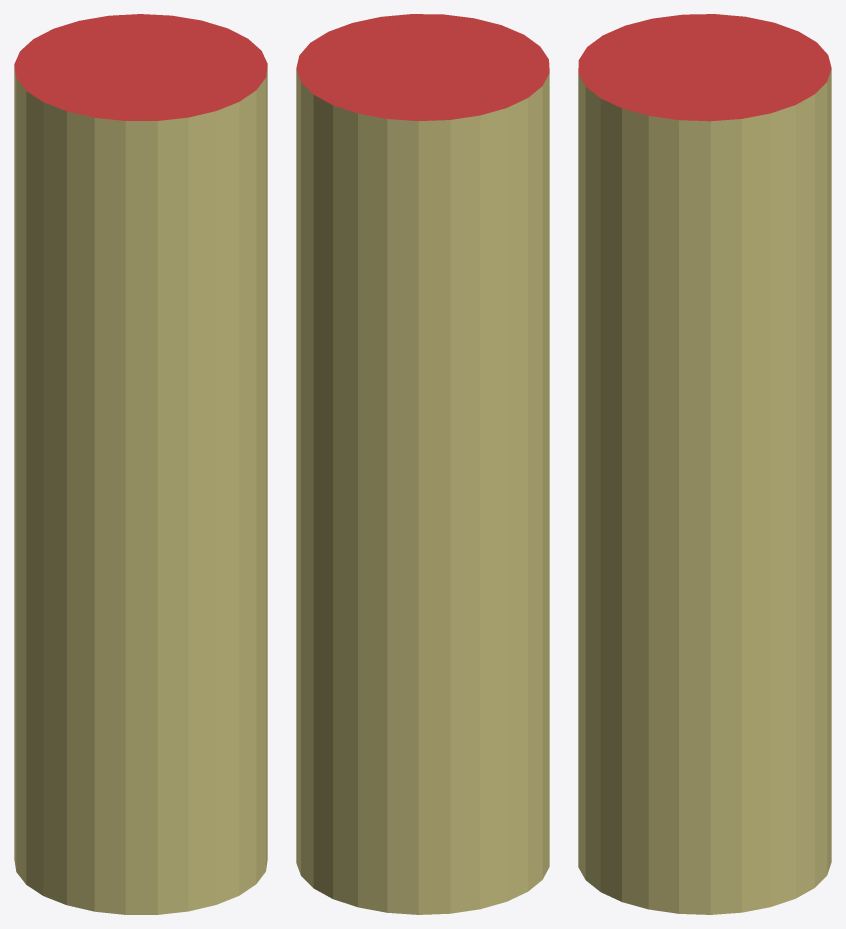
3 renders of one model, left to right at view 1: azimuth 30°, elevation 25°; view 2: azimuth 150°, elevation 25°; view 3: azimuth 270°, elevation 25°, orthographic.
Size of the model in its own units: 3.03 by 3.02 by 10.45.
